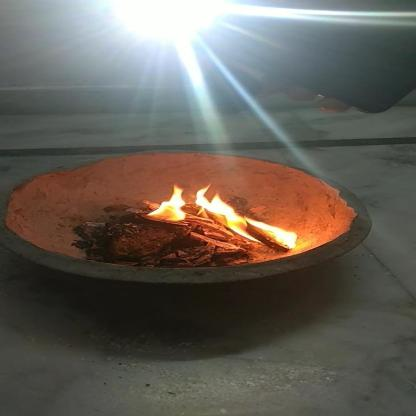fire: (193, 182, 257, 247), (236, 209, 302, 252), (138, 183, 188, 228)
